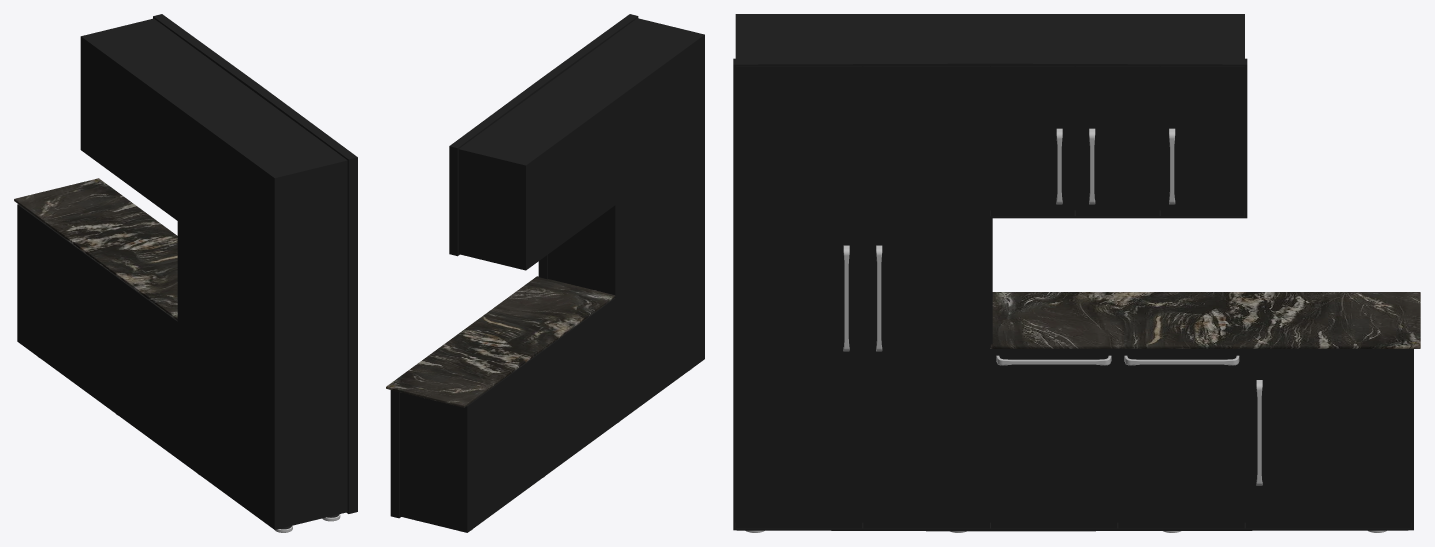
The model's file is cabinet_1.glb.
The picture shows the model from 3 angles, left to right: view 1: azimuth 30°, elevation 25°; view 2: azimuth 150°, elevation 25°; view 3: azimuth 270°, elevation 25°; orthographic projection. The views are drawn at different scales.
Parts seen in each view (by area): view 1: CABINET.001_0, CABINET.005_4; view 2: CABINET.001_0, CABINET.005_4; view 3: CABINET.002_1, CABINET.001_0, CABINET.005_4, CABINET.004_3.
Boxes of the visible parts, <box> form: CABINET.001_0: <box>17,14,357,529</box>; CABINET.005_4: <box>14,178,177,320</box>; CABINET.001_0: <box>390,14,704,532</box>; CABINET.005_4: <box>386,276,615,407</box>; CABINET.002_1: <box>735,66,1411,528</box>; CABINET.001_0: <box>733,14,1413,531</box>; CABINET.005_4: <box>990,292,1420,348</box>; CABINET.004_3: <box>843,128,1262,485</box>.
Size of the model in its own units: 0.5299 by 2.06 by 2.7.
4 materials, 1 textured.
